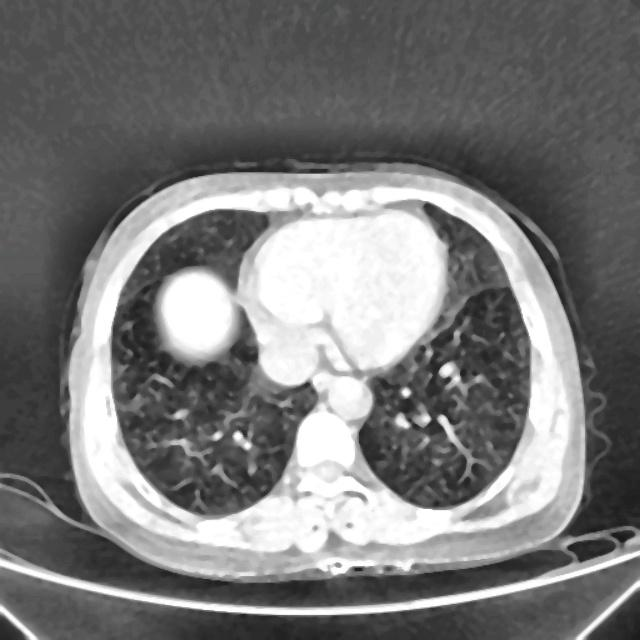covid: (63, 160, 592, 581)
